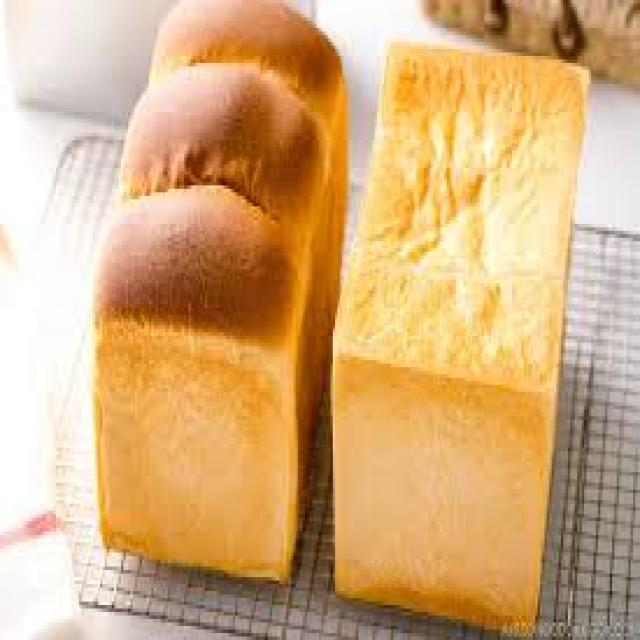bread: (330, 37, 591, 636), (96, 1, 349, 582)
